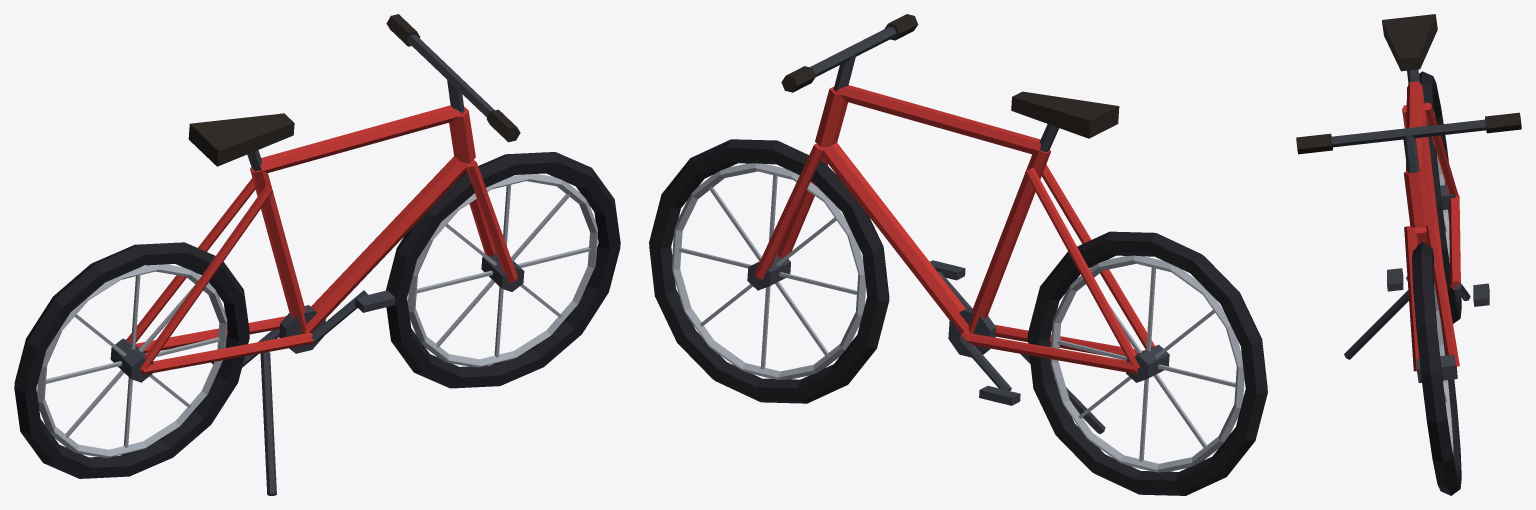
The model's file is Prop_Bicycle.fbx.
3 views of the same model, side by side, from view 1: azimuth 30°, elevation 25°; view 2: azimuth 150°, elevation 25°; view 3: azimuth 270°, elevation 25° (orthographic). The views are drawn at different scales.
Parts seen in each view (by area): view 1: Prop_Bicycle; view 2: Prop_Bicycle; view 3: Prop_Bicycle.
Boxes of the visible parts, left/top/right/bottom form: Prop_Bicycle: left=14, top=14, right=620, bottom=495; Prop_Bicycle: left=649, top=14, right=1267, bottom=495; Prop_Bicycle: left=1296, top=14, right=1521, bottom=495.
Bounding box in the file's own units: 1.7 × 0.9743 × 0.5803.
